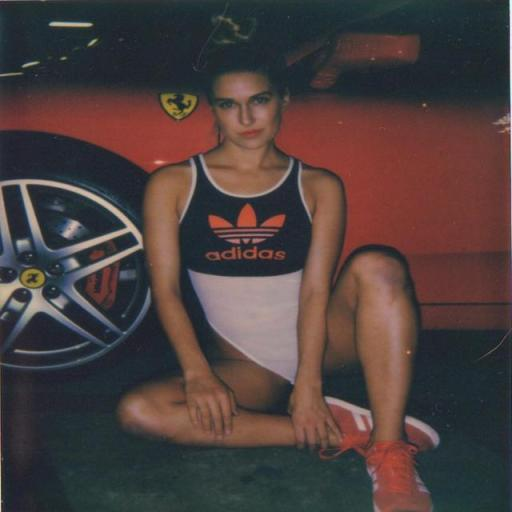Adidas: (204, 205, 288, 261)
